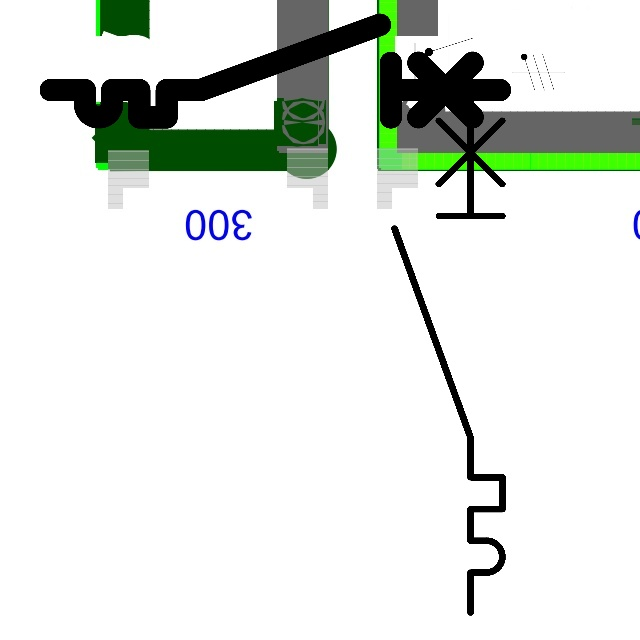interruptor_termomagnetico: (381, 75, 516, 626), (39, 13, 512, 129)
